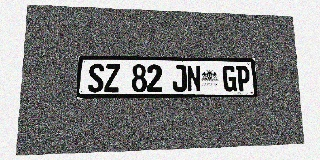2: (147, 64, 162, 92)
8: (132, 64, 147, 92)
G: (222, 65, 237, 92)
J: (172, 65, 187, 92)
N: (186, 65, 201, 92)
P: (236, 65, 250, 92)
S: (88, 64, 104, 92)
Z: (104, 64, 120, 92)
